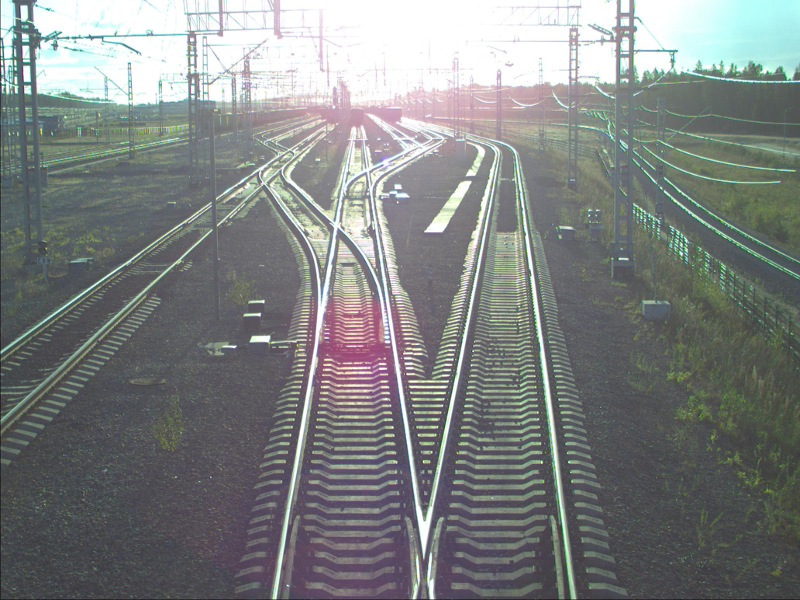left: (343, 169, 375, 200)
right: (313, 211, 402, 355)
